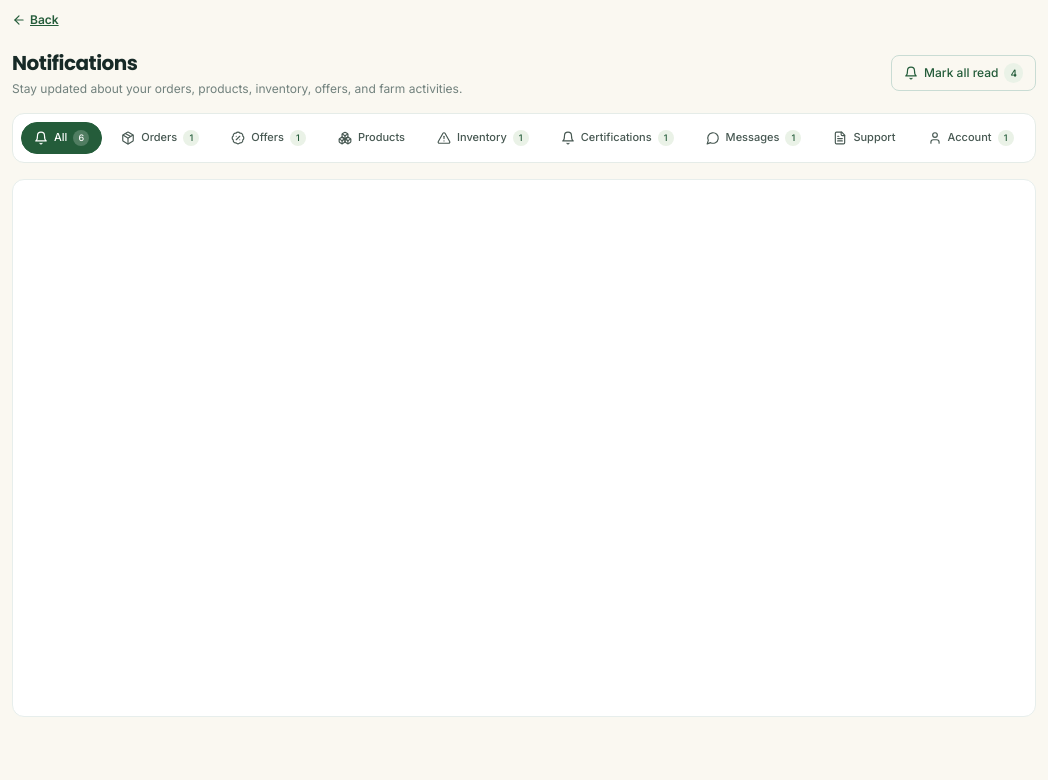
Test: Farmer Notification Centre › Inventory displays inventory notifications
Click the button "Inventory 1". click: (483,138)
box: [424, 122, 542, 154]
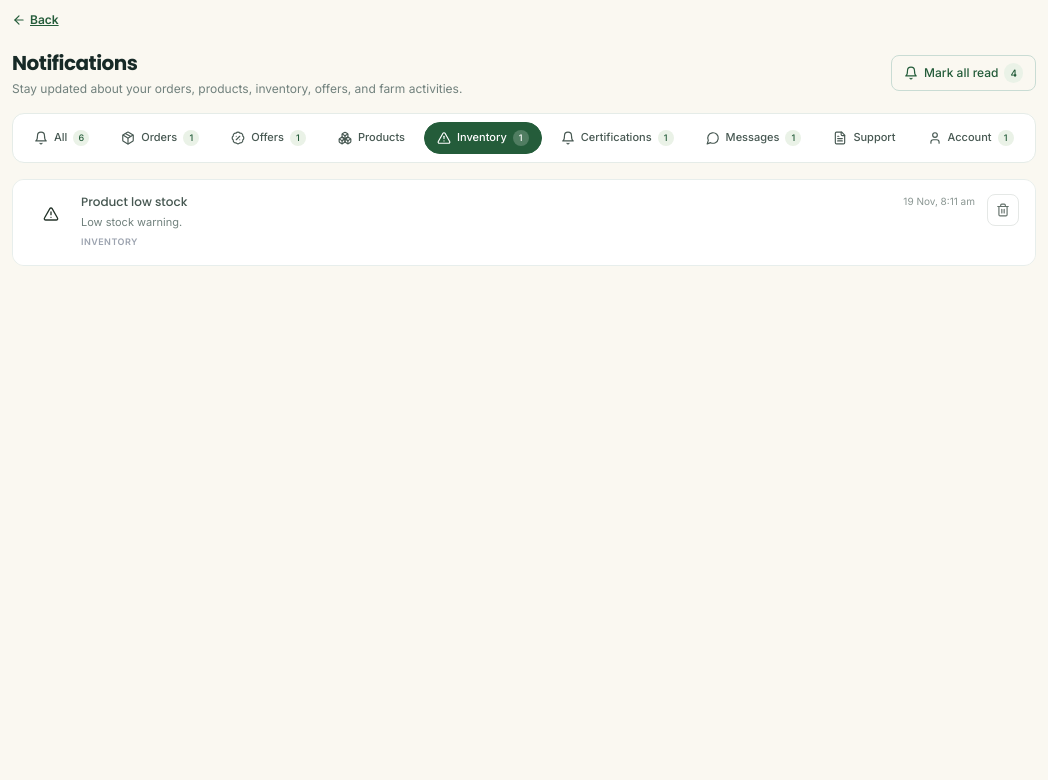
Result: the button "Product low stock" is shown at [81, 194, 187, 210]
